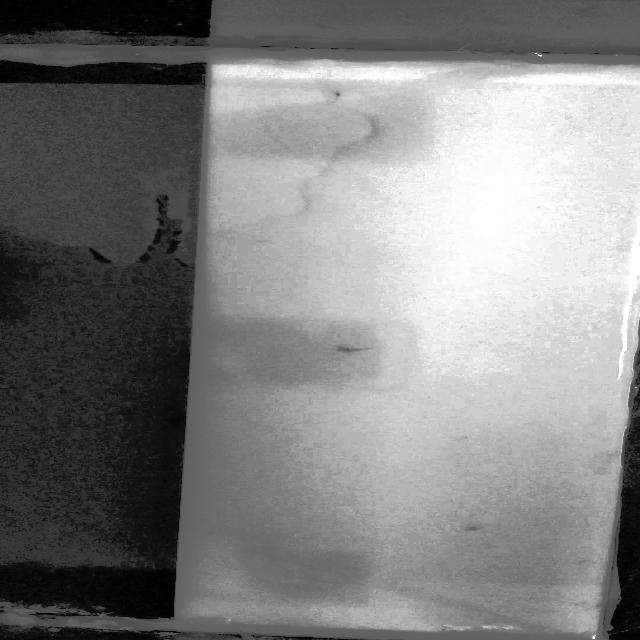shrimp: (326, 344, 379, 356), (327, 91, 353, 104), (461, 523, 489, 532)
